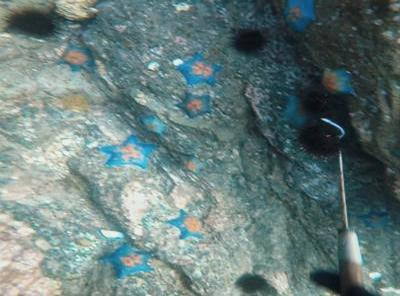urchin: (4, 6, 61, 41), (299, 121, 343, 161), (228, 25, 271, 55)
